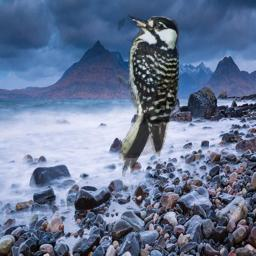Woodpecker: (118, 14, 179, 177)
